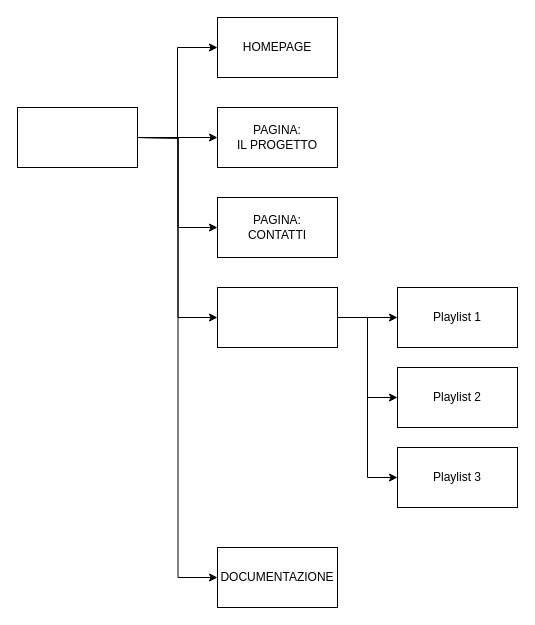
Image size: 535x625. Some labels were removed from this diagram. Here are the shapes that lost their labels. From the top down, the box of each, then its label:
(16, 106, 138, 168): IL PROGETTO
(216, 286, 338, 348): PAGINA: MOVE YOUR MUSIC
